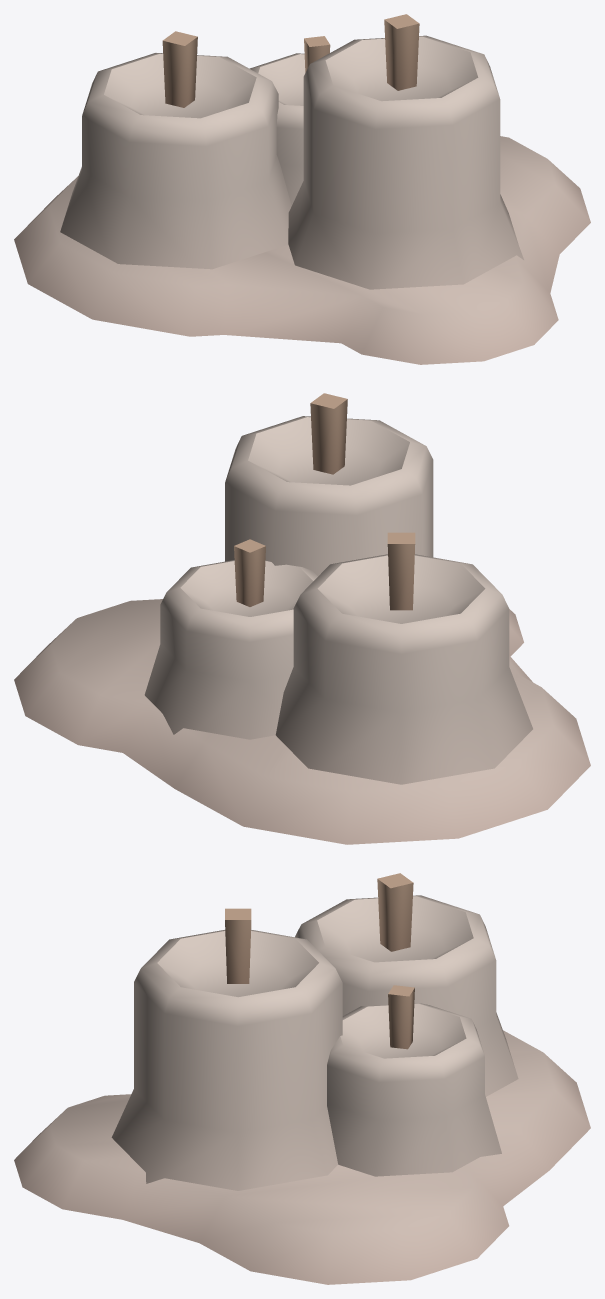
Rendered from candle-melted-cluster.glb.
3 renders of one model, top to bottom at view 1: azimuth 30°, elevation 25°; view 2: azimuth 150°, elevation 25°; view 3: azimuth 270°, elevation 25°, orthographic. The views are drawn at different scales.
Parts seen in each view (by area): view 1: candle-melted-cluster; view 2: candle-melted-cluster; view 3: candle-melted-cluster.
Boxes of the visible parts, x1=… form: candle-melted-cluster: x1=14, y1=14, x2=590, y2=364; candle-melted-cluster: x1=14, y1=393, x2=590, y2=844; candle-melted-cluster: x1=14, y1=873, x2=590, y2=1284.
Bounding box in the file's own units: 0.4242 × 0.2002 × 0.4036.
